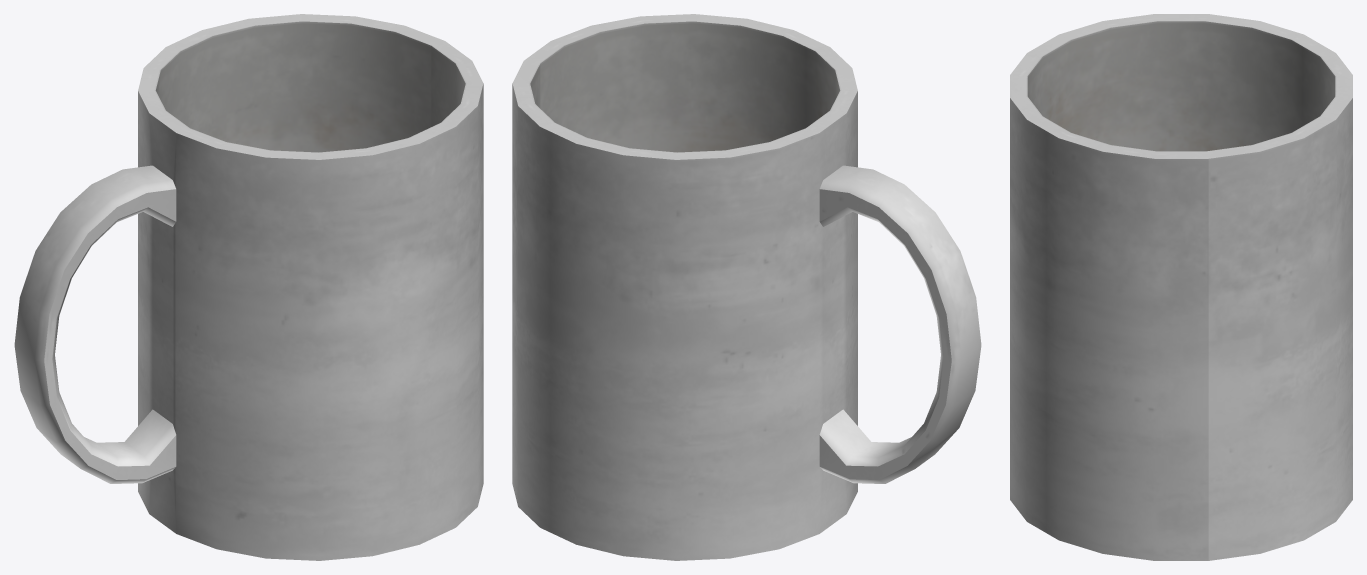
The model's file is SM_Mug_Generic.fbx.
3 renders of one model, left to right at view 1: azimuth 30°, elevation 25°; view 2: azimuth 150°, elevation 25°; view 3: azimuth 270°, elevation 25°, orthographic.
Visible parts, largest first — view 1: SM_Mug_Generic_LOD0; view 2: SM_Mug_Generic_LOD0; view 3: SM_Mug_Generic_LOD0.
Boxes of the visible parts, x1,y1,x2,y2 form: SM_Mug_Generic_LOD0: [14, 14, 483, 560]; SM_Mug_Generic_LOD0: [512, 14, 981, 560]; SM_Mug_Generic_LOD0: [1010, 14, 1352, 560].
Bounding box in the file's own units: 15.11 × 10.3 × 13.33.
